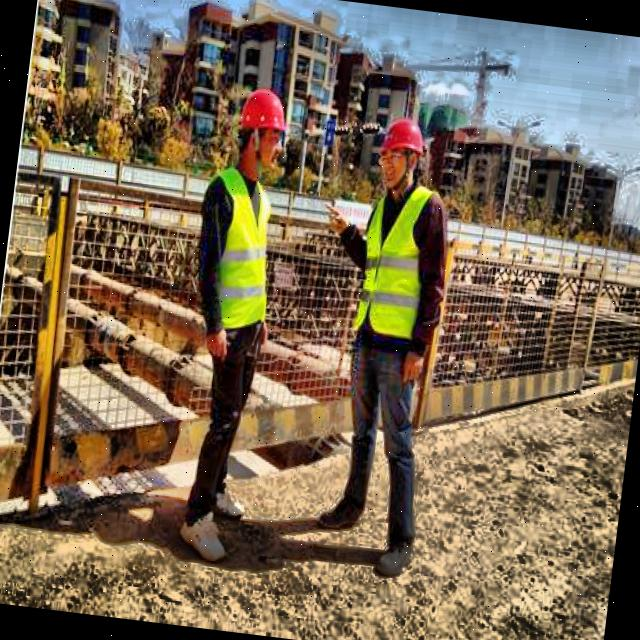helmet: (227, 75, 299, 184), (368, 107, 431, 197)
